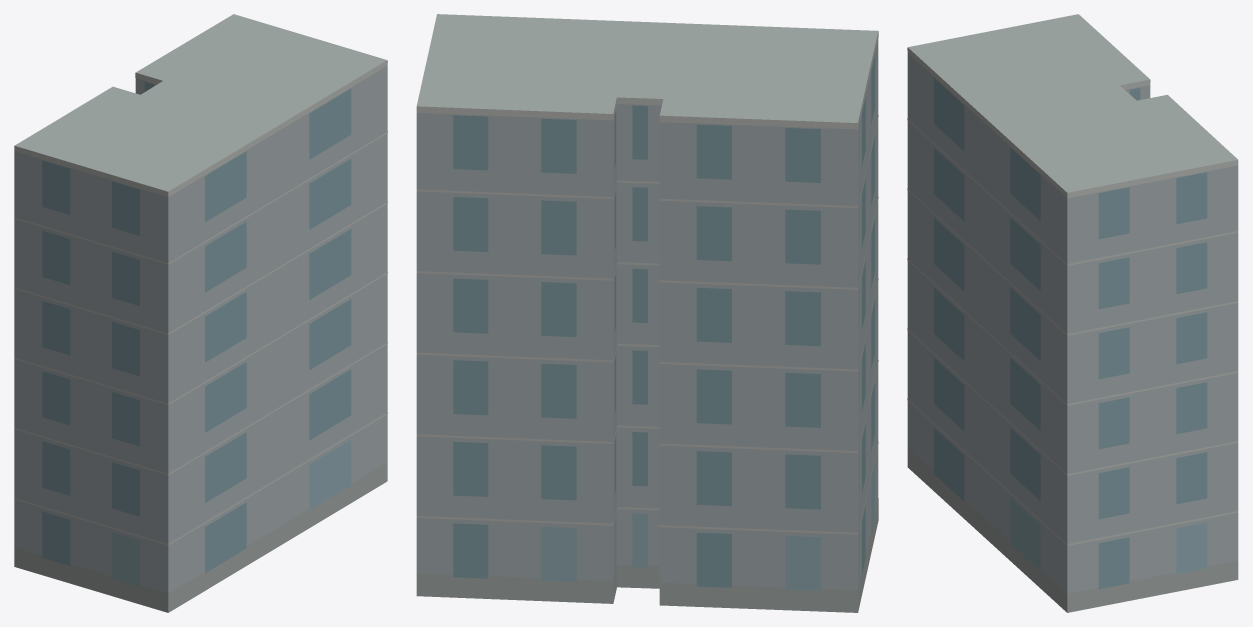
The model's file is survey-upis-33047316.glb.
3 renders of one model, left to right at view 1: azimuth 30°, elevation 25°; view 2: azimuth 150°, elevation 25°; view 3: azimuth 270°, elevation 25°, orthographic. The views are drawn at different scales.
Visible parts, largest first — view 1: survey-upis-33047316.tmp; view 2: survey-upis-33047316.tmp; view 3: survey-upis-33047316.tmp.
Boxes of the visible parts, box(x1,y1,x2,y2) form: survey-upis-33047316.tmp: box(14, 14, 387, 612); survey-upis-33047316.tmp: box(416, 14, 878, 612); survey-upis-33047316.tmp: box(907, 14, 1238, 612).
Bounding box in the file's own units: 16.97 × 18.55 × 13.26.
